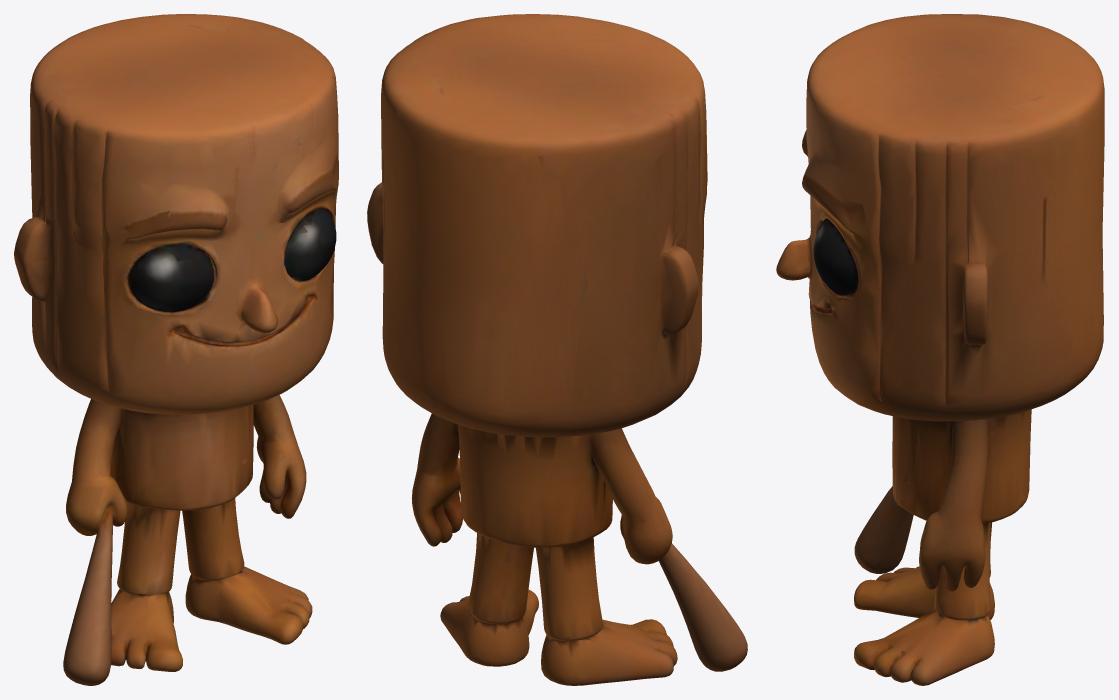
Rendered from card.glb.
3 views of the same model, side by side, from view 1: azimuth 30°, elevation 25°; view 2: azimuth 150°, elevation 25°; view 3: azimuth 270°, elevation 25° (orthographic). The views are drawn at different scales.
Visible parts, largest first — view 1: model; view 2: model; view 3: model.
Boxes of the visible parts, x1=… form: model: x1=14, y1=14, x2=338, y2=685; model: x1=367, y1=14, x2=747, y2=685; model: x1=776, y1=14, x2=1104, y2=685.
Size of the model in its own units: 1.14 by 2 by 1.05.
1 material, 1 textured.
